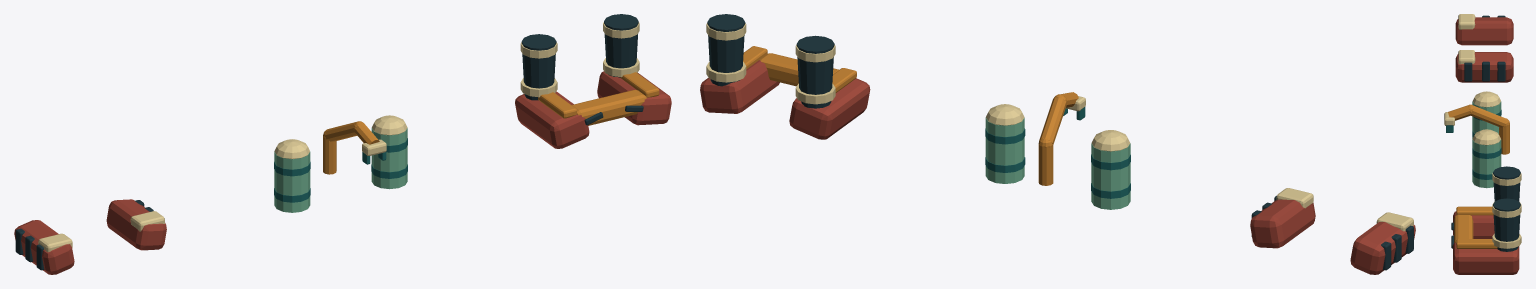
The model's file is PL_HeavyEscortKit.glb.
3 views of the same model, side by side, from view 1: azimuth 30°, elevation 25°; view 2: azimuth 150°, elevation 25°; view 3: azimuth 270°, elevation 25° (orthographic). The views are drawn at different scales.
Parts seen in each view (by area): view 1: ChiefPlate_Surface, MedicRig_Surface, GuardArmor_Surface; view 2: ChiefPlate_Surface, MedicRig_Surface, GuardArmor_Surface; view 3: ChiefPlate_Surface, GuardArmor_Surface, MedicRig_Surface.
Boxes of the visible parts, x1,y1,x2,y2 form: ChiefPlate_Surface: (515, 14, 671, 148); MedicRig_Surface: (274, 115, 407, 212); GuardArmor_Surface: (14, 199, 166, 274); ChiefPlate_Surface: (700, 14, 870, 139); MedicRig_Surface: (985, 92, 1130, 209); GuardArmor_Surface: (1250, 188, 1415, 274); ChiefPlate_Surface: (1451, 166, 1521, 274); GuardArmor_Surface: (1455, 14, 1513, 82); MedicRig_Surface: (1444, 91, 1509, 188).
Size of the model in its own units: 7.46 by 1.04 by 1.
